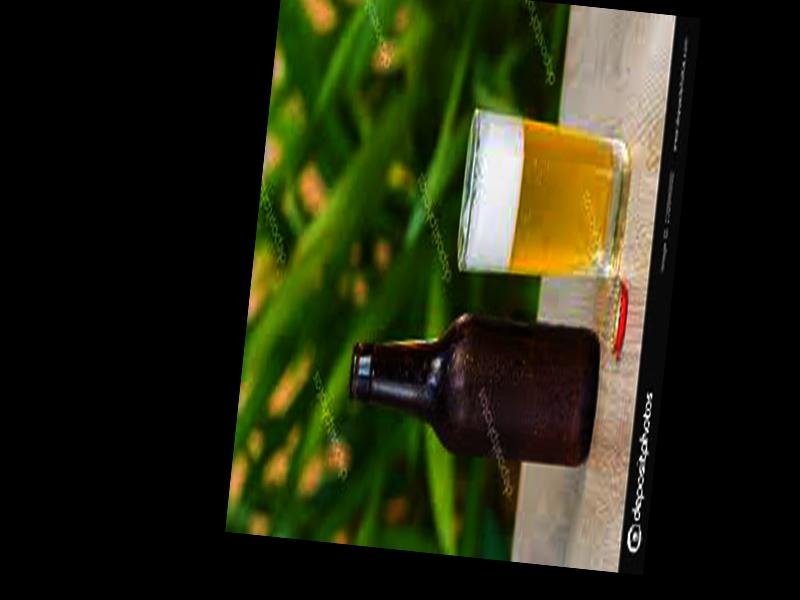Beer: (345, 304, 604, 461)
